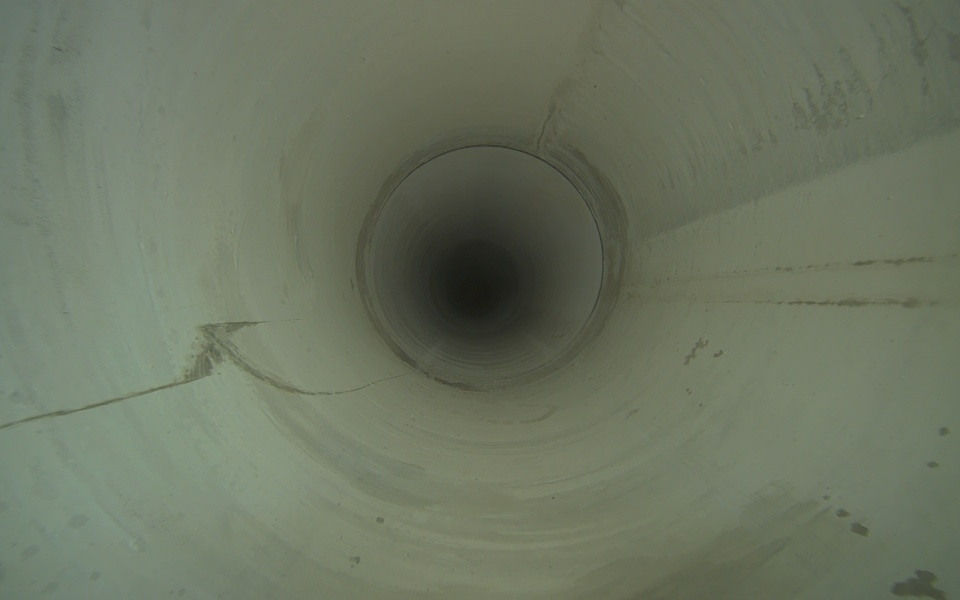circle1: (359, 142, 610, 391)
circle2: (461, 277, 493, 310)
